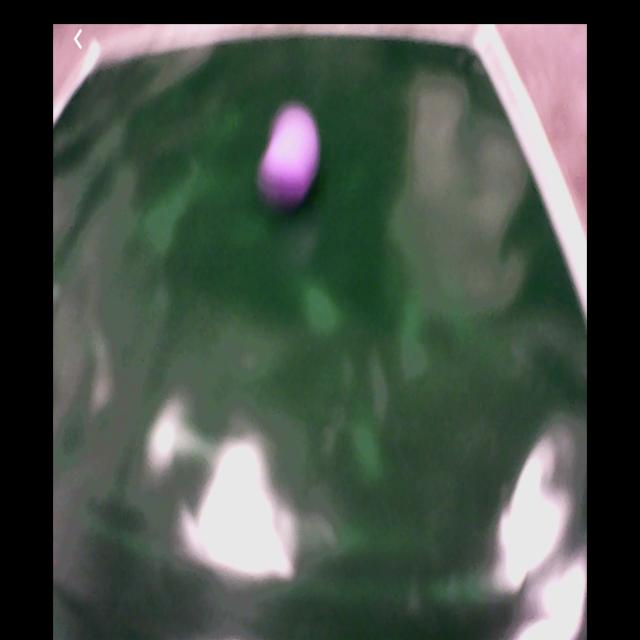ball: (272, 102, 321, 191)
